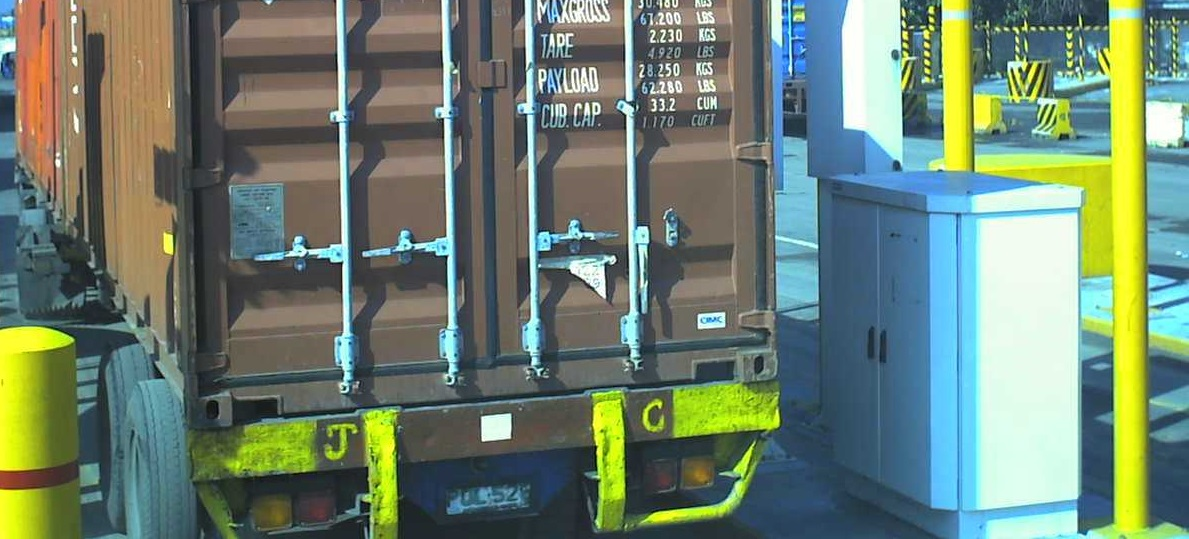container_door: (191, 1, 782, 437)
